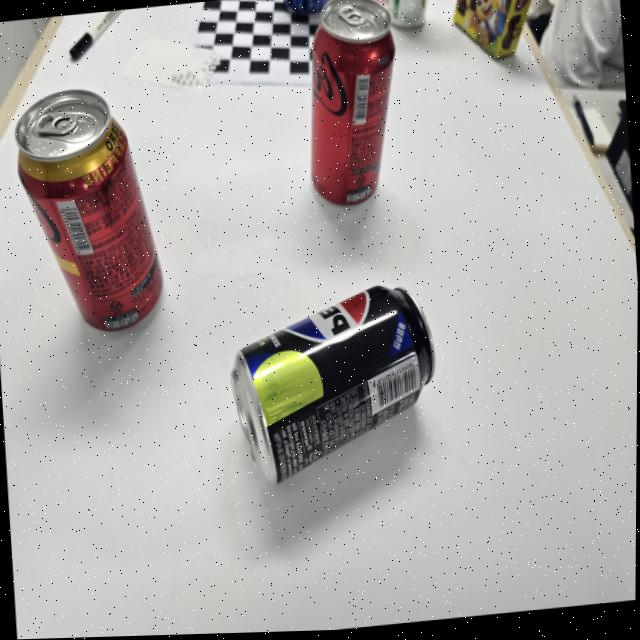can_coke_decaf: (12, 85, 162, 338)
can_coke_zero: (310, 0, 396, 210)
can_pepsi_zero: (231, 282, 434, 486)
